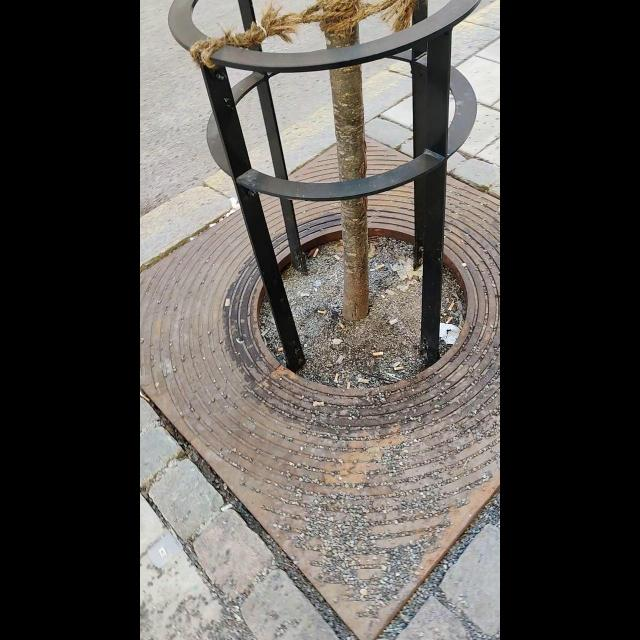cigarette: (220, 502, 234, 518), (140, 391, 151, 405), (223, 296, 232, 310), (375, 262, 387, 272), (388, 317, 400, 327), (312, 247, 321, 260), (356, 378, 372, 385), (312, 402, 326, 409), (447, 302, 455, 313), (392, 365, 406, 371), (299, 291, 311, 298), (446, 316, 454, 326), (372, 351, 383, 358), (315, 308, 326, 315), (334, 371, 340, 383), (338, 320, 345, 328), (344, 382, 350, 390)
